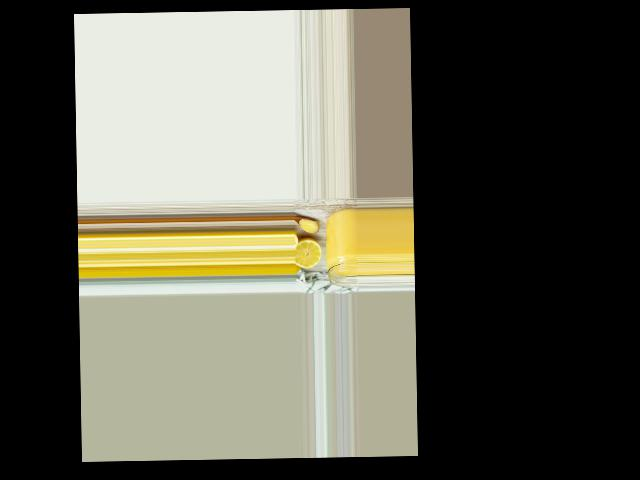lemon: (296, 238, 322, 269)
